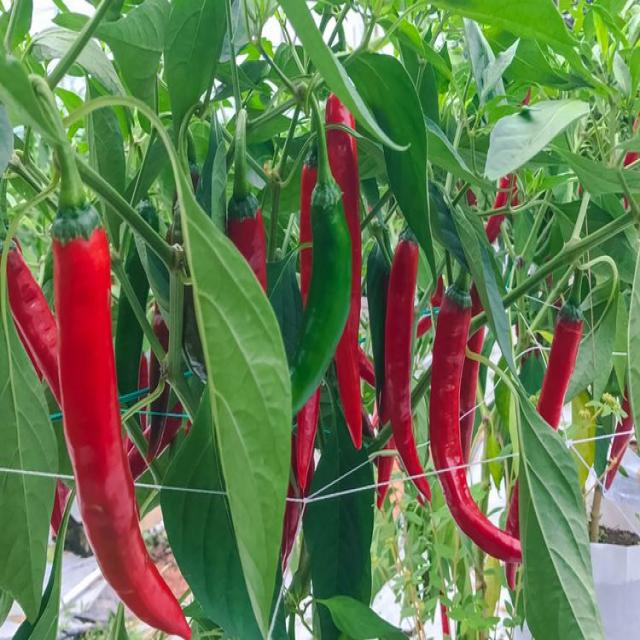sehat: (190, 195, 296, 640), (502, 372, 603, 640), (300, 432, 383, 622)
